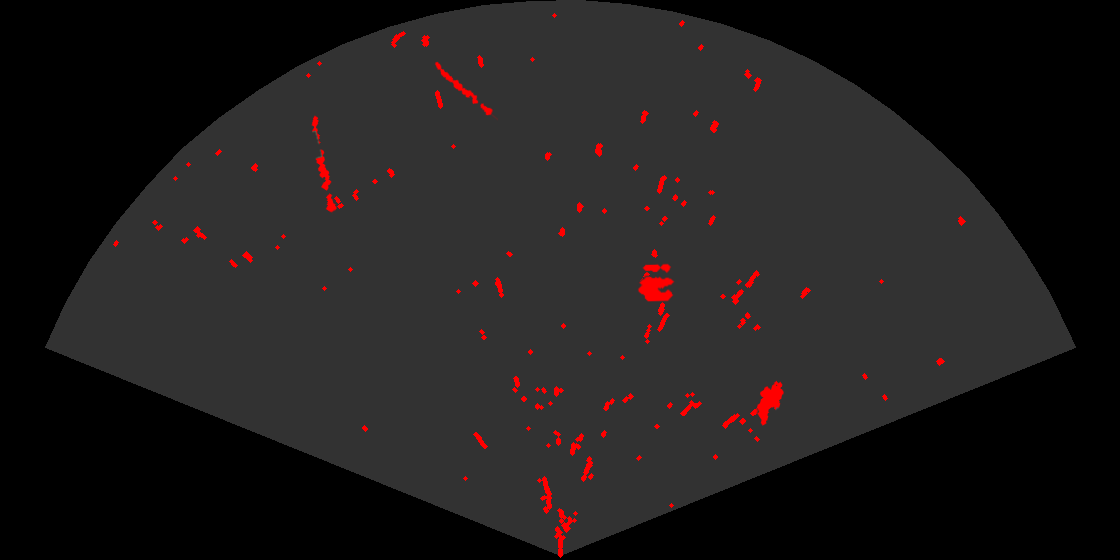AUV: (755, 379, 785, 427)
ball: (636, 262, 676, 303)
chain: (433, 60, 498, 122), (310, 114, 338, 215)
